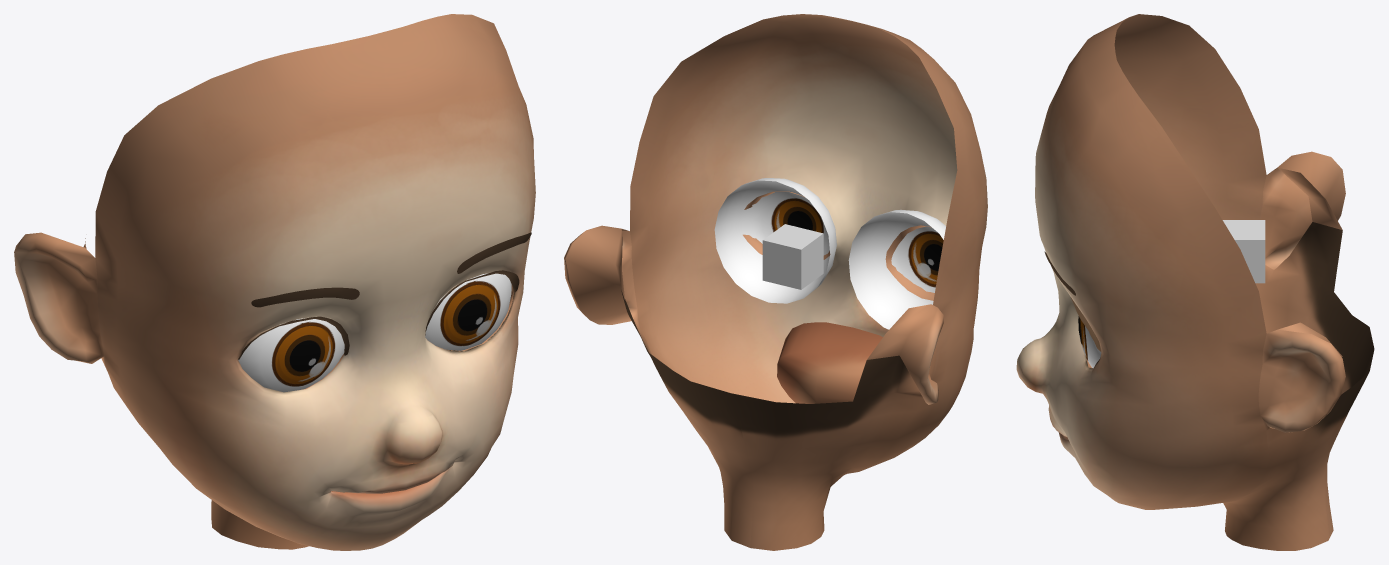
Rendered from boy_face.FBX.
3 renders of one model, left to right at view 1: azimuth 30°, elevation 25°; view 2: azimuth 150°, elevation 25°; view 3: azimuth 270°, elevation 25°, orthographic. The views are drawn at different scales.
Parts seen in each view (by area): view 1: boy_face23, boy_eye22, boy_eye24; view 2: boy_face23, boy_eye24, boy_eye22, faceSpawn; view 3: boy_face23, faceSpawn, boy_eye24.
Part boxes in pixels (left/top/right/bottom): boy_face23: left=14, top=14, right=535, bottom=550; boy_eye22: left=238, top=318, right=344, bottom=392; boy_eye24: left=425, top=273, right=511, bottom=350; boy_face23: left=564, top=14, right=987, bottom=550; boy_eye24: left=714, top=178, right=836, bottom=303; boy_eye22: left=848, top=209, right=945, bottom=329; faceSpawn: left=762, top=224, right=823, bottom=289; boy_face23: left=1016, top=14, right=1374, bottom=550; faceSpawn: left=1222, top=220, right=1265, bottom=283; boy_eye24: left=1078, top=316, right=1101, bottom=368.
Size of the model in its own units: 48.03 by 56.22 by 37.5.
